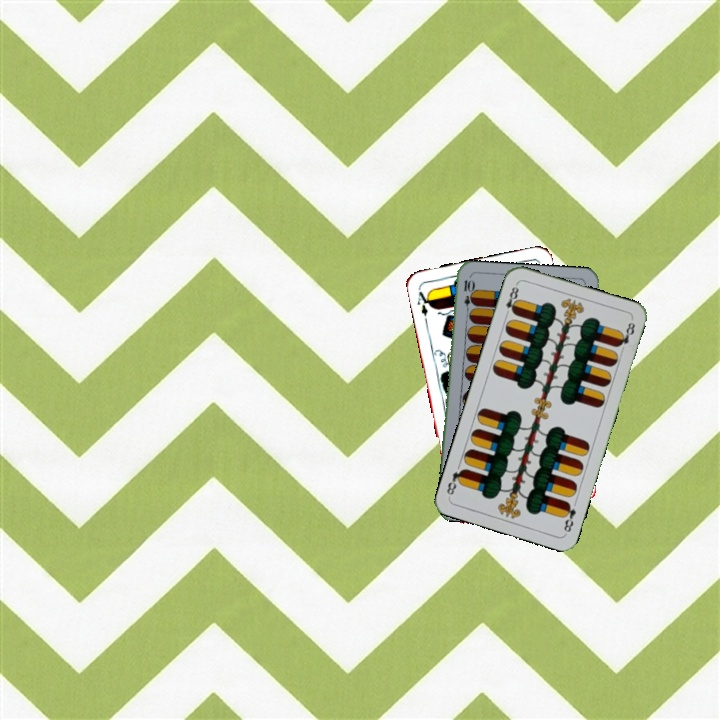E10: (460, 276, 474, 316)
E8: (501, 280, 521, 319), (559, 498, 578, 536)
EA: (413, 288, 434, 319)
